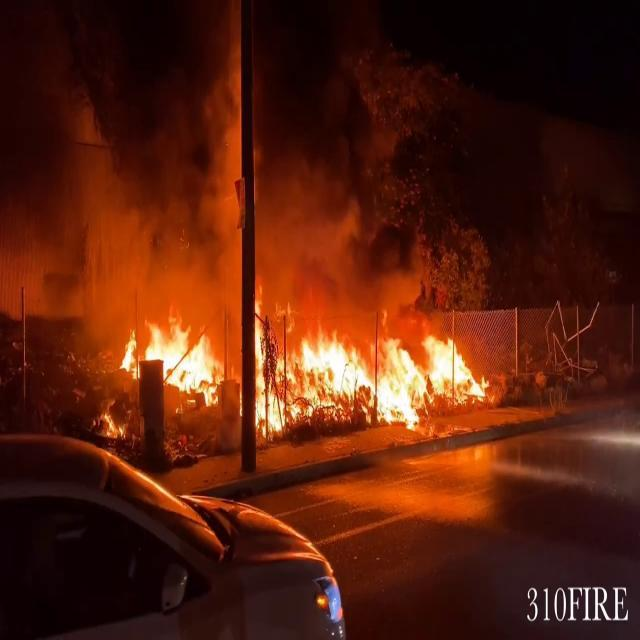Fire: (113, 292, 492, 430), (113, 306, 226, 404)
Smoke: (1, 4, 385, 308)
